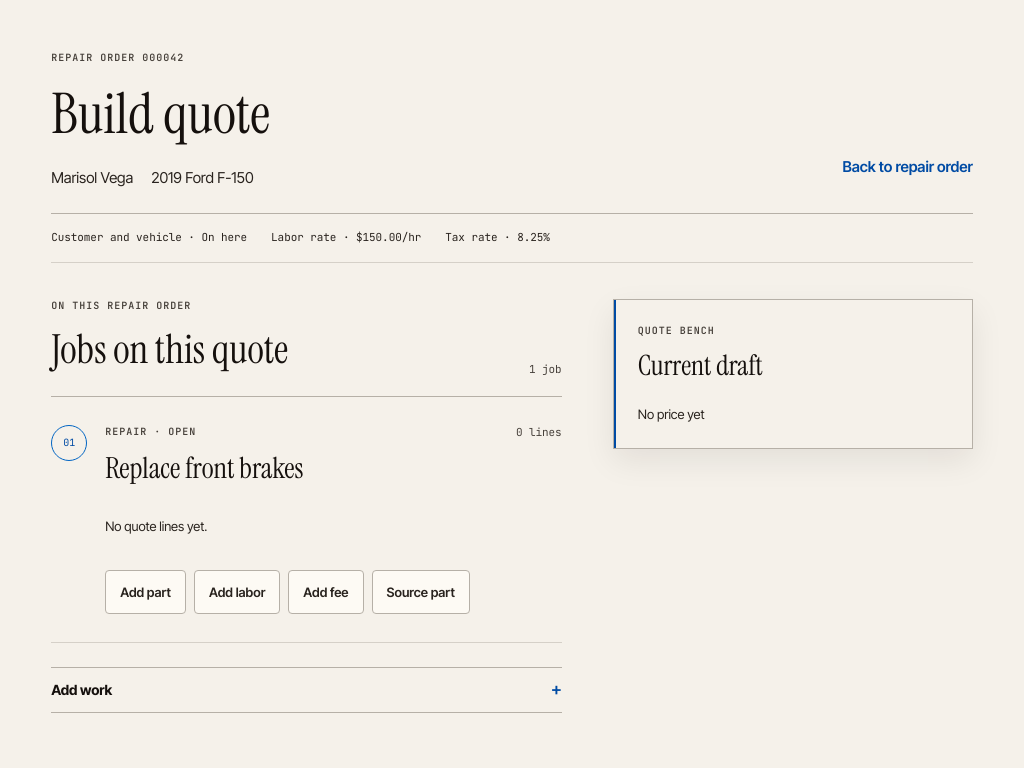
Test: ManualQuoteBuilder sourcing integration › rejects a same-id sourced refresh with mismatched description
Click the button "Source part" at point(421, 592), box top-left (372, 570), bottom-right (470, 614)
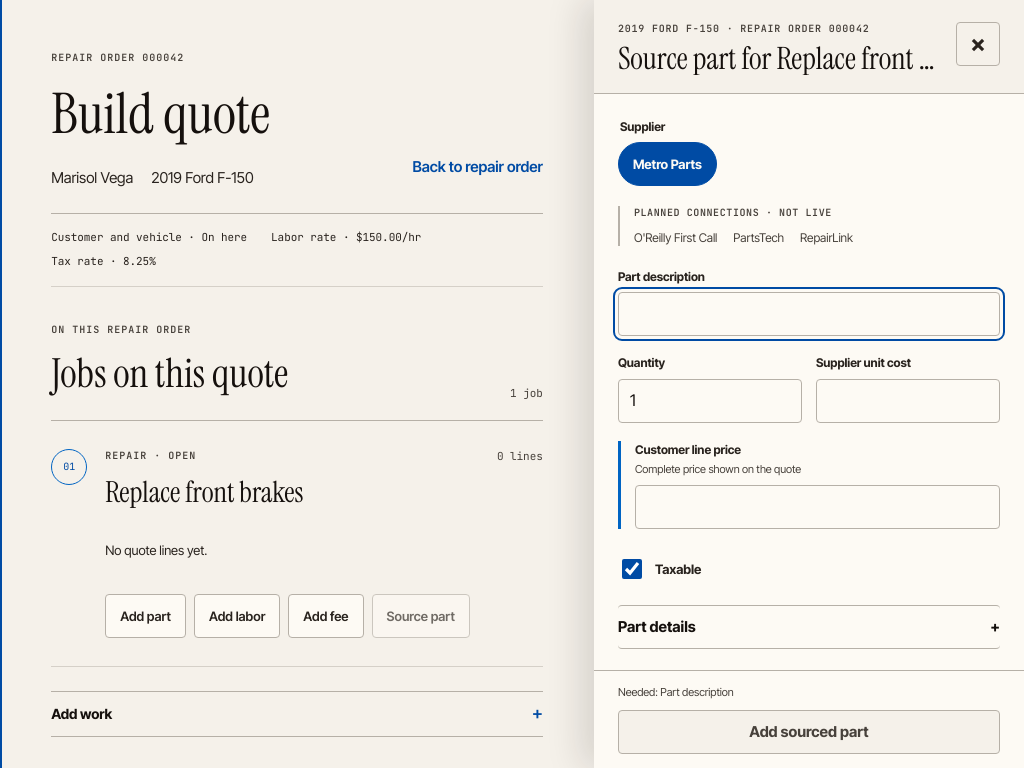
Type "Sourced pad set" into the field labelled "Part description" at point(809, 314), box top-left (618, 292), bottom-right (1000, 336)
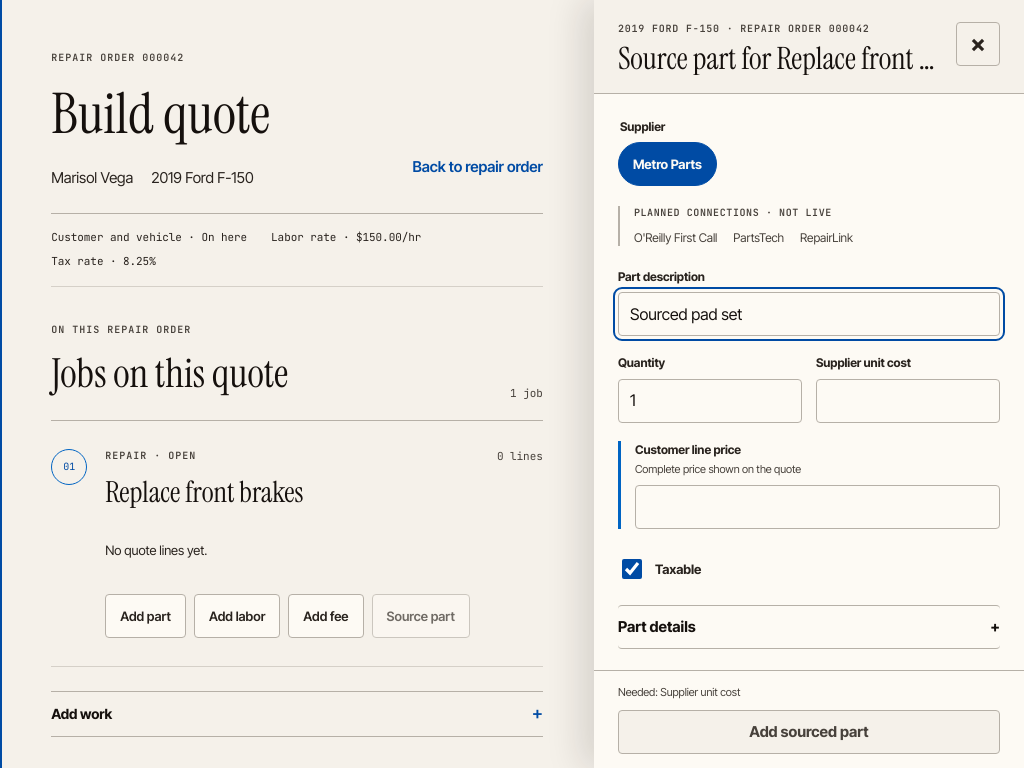
Type "80" into the field labelled "Supplier unit cost" at point(908, 401), box top-left (816, 379), bottom-right (1000, 423)
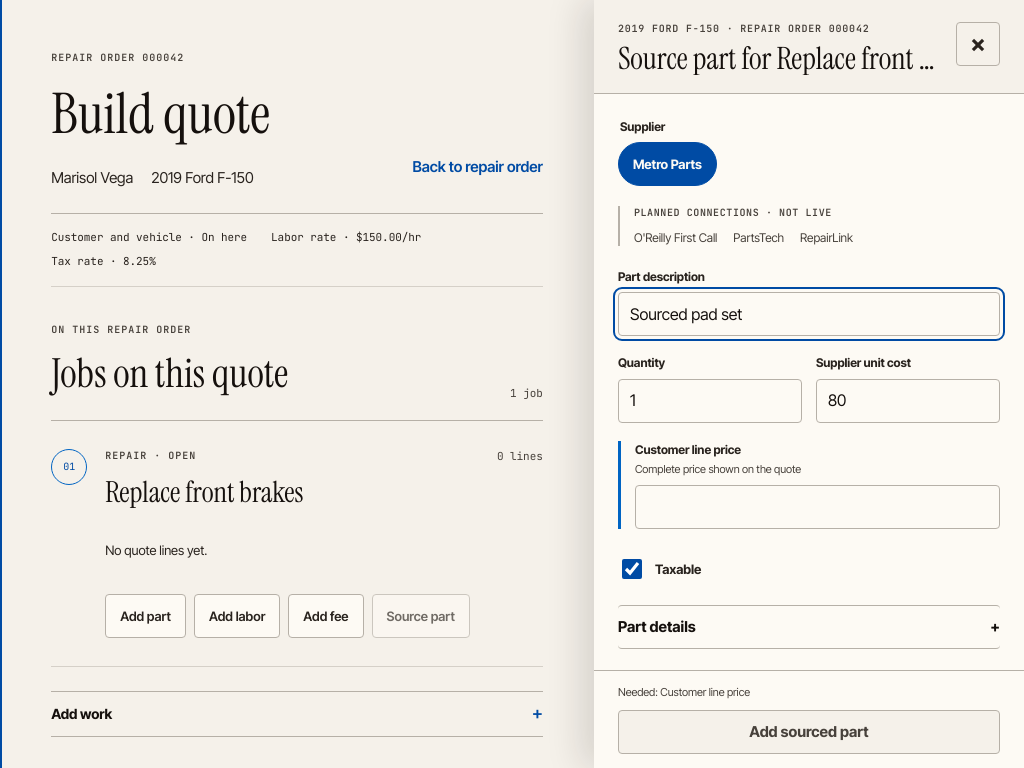
Type "140" into the field labelled "Customer line price" at point(817, 507), box top-left (635, 485), bottom-right (1000, 529)
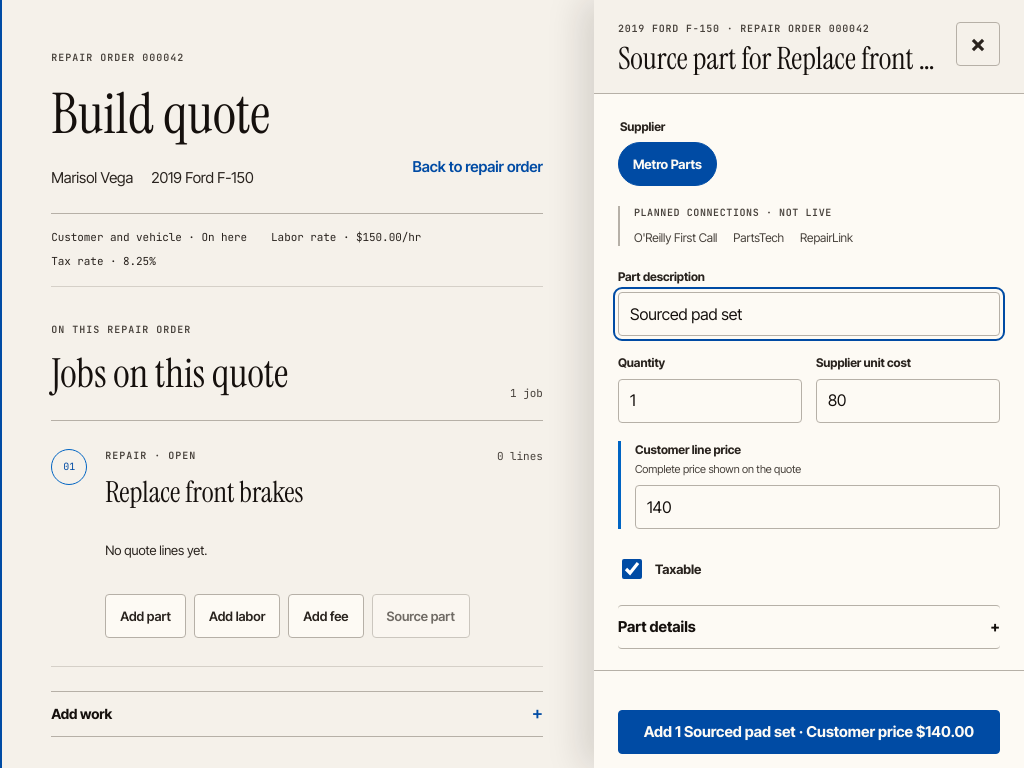
Click the button "Add 1 Sourced pad set · Customer price $140.00" at point(809, 732), box top-left (618, 710), bottom-right (1000, 754)
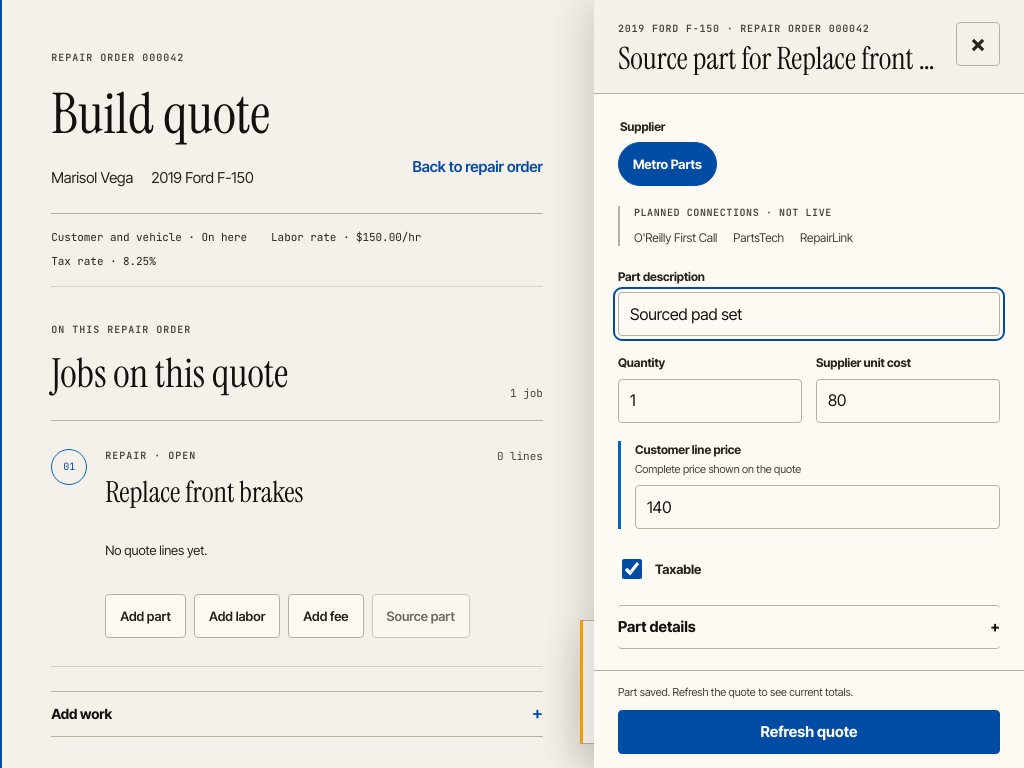
Check: the dialog "Source part for" is shown, box top-left (594, 0), bottom-right (1023, 767)
Check: the text "Part saved. Refresh the quote to see current totals." is shown, box top-left (618, 685), bottom-right (853, 699)
